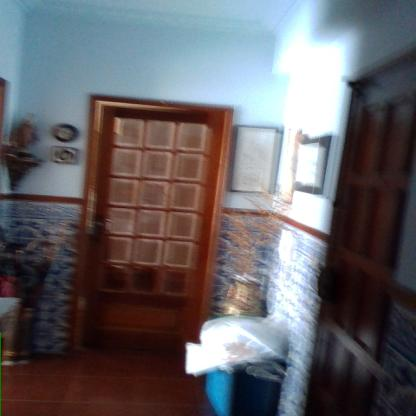closed: (80, 90, 237, 380)
